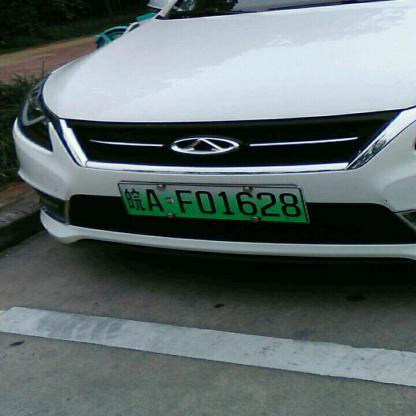lp: (117, 182, 307, 222)
